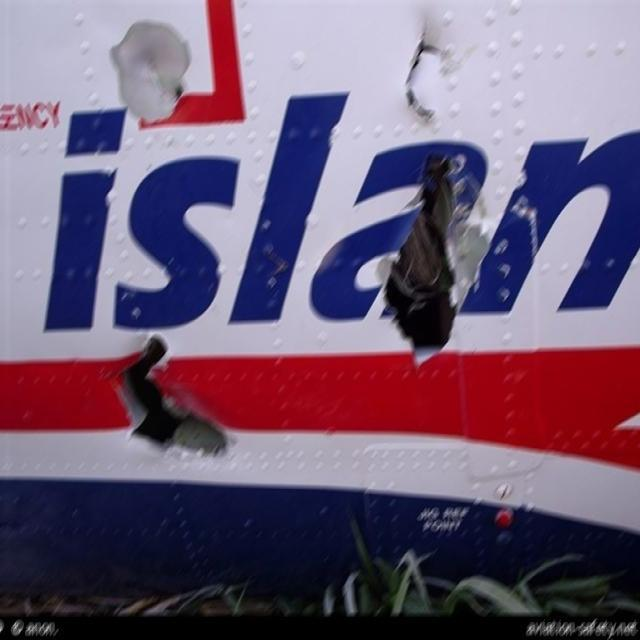crack: (380, 150, 470, 366), (111, 334, 232, 464), (403, 15, 446, 132), (162, 75, 192, 106)
